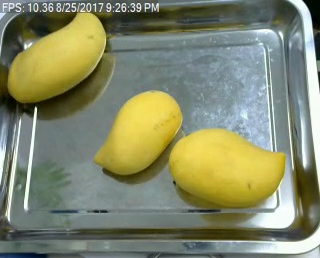Mango: (168, 125, 288, 210), (7, 10, 108, 104), (95, 89, 182, 176)
